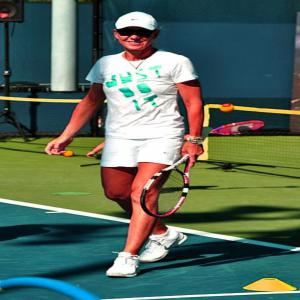TennisBall: (64, 152, 73, 158)
